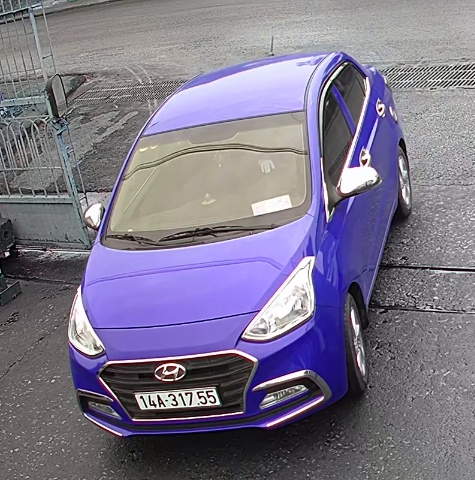vehicle plate: (126, 385, 229, 415)
